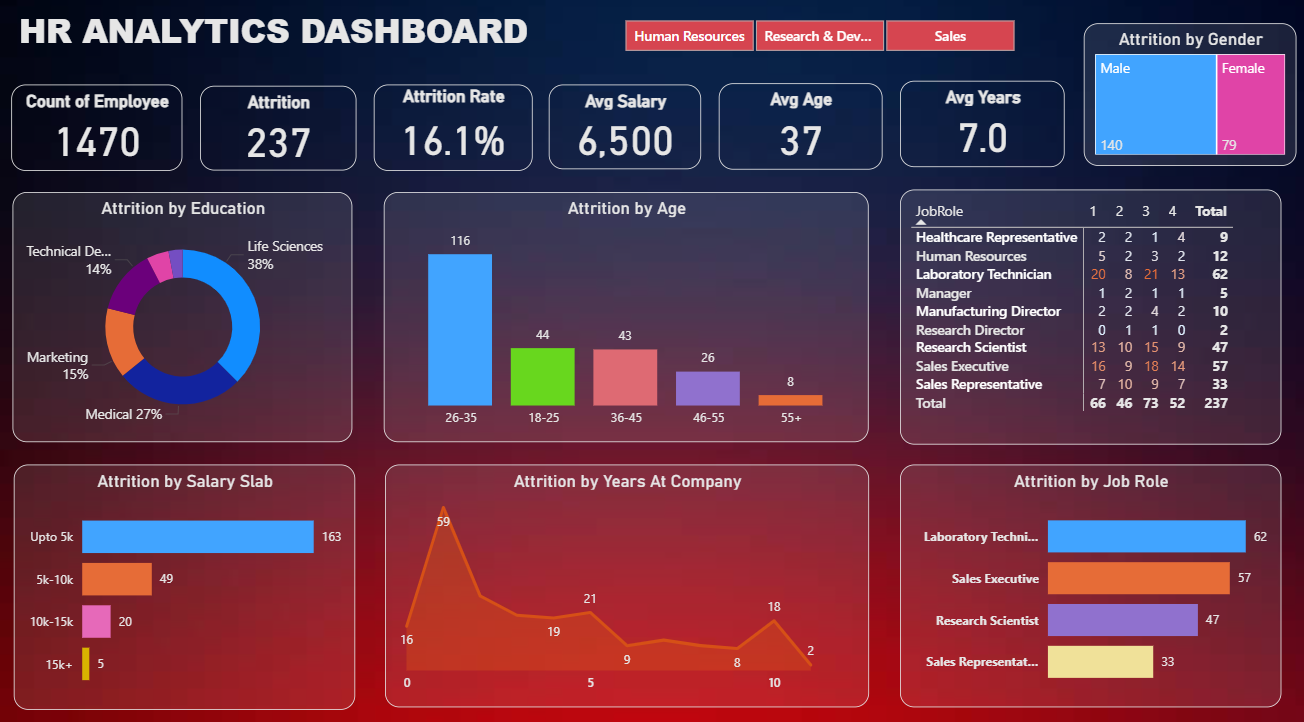

The dashboard page shown, as its layout file describes it:
{"tool":"powerbi","page":{"name":"Page 1","canvas":[1280,720],"ordinal":0},"visuals":[{"type":"card","title":"Count of Employee","fields":{"Values":["Count(HR_Analytics.EmpID)"]},"box":[11,90.8,168.1,84.7],"z":0},{"type":"card","title":"Attrition","fields":{"Values":["Sum(HR_Analytics.AttritionCount)"]},"box":[196.1,92,153.4,83.4],"z":1000},{"type":"card","title":"Attrition Rate","fields":{"Values":["HR_Analytics.Attritionrate"]},"box":[366.4,90.8,155.8,84.7],"z":2000},{"type":"card","title":"Avg Age ","fields":{"Values":["Avg(HR_Analytics.Age)"]},"box":[705.8,89.6,160.7,84.7],"z":3000},{"type":"card","title":"Avg Salary ","fields":{"Values":["Avg(HR_Analytics.MonthlyIncome)"]},"box":[539.1,90.8,149.7,83.4],"z":4000},{"type":"card","title":"Avg Years","fields":{"Values":["Avg(HR_Analytics.YearsAtCompany)"]},"box":[883.4,87.1,162,84.7],"z":5000},{"type":"donutChart","title":"Attrition by Education","fields":{"Category":["HR_Analytics.EducationField"],"Y":["Sum(HR_Analytics.AttritionCount)"]},"box":[12.3,196.3,333.7,245.4],"z":6000},{"type":"columnChart","title":"Attrition by Age ","fields":{"Category":["HR_Analytics.AgeGroup"],"Y":["Sum(HR_Analytics.AttritionCount)"]},"box":[376.7,196.3,476.1,245.4],"z":7000},{"type":"pivotTable","fields":{"Rows":["HR_Analytics.JobRole"],"Columns":["HR_Analytics.JobSatisfaction"],"Values":["Sum(HR_Analytics.AttritionCount)"]},"box":[883,193.9,374.2,250],"z":8000},{"type":"clusteredBarChart","title":"Attrition by Salary Slab","fields":{"Category":["HR_Analytics.SalarySlab"],"Y":["Sum(HR_Analytics.AttritionCount)"]},"box":[13.5,463.8,335,240.5],"z":9000},{"type":"clusteredBarChart","title":"Attrition by Job Role","fields":{"Category":["HR_Analytics.JobRole","HR_Analytics.SalarySlab"],"Y":["Sum(HR_Analytics.AttritionCount)"]},"box":[883.4,463.8,374.2,238],"z":10000},{"type":"areaChart","title":"Attrition by Years At Company","fields":{"Category":["HR_Analytics.YearsAtCompany"],"Y":["Sum(HR_Analytics.AttritionCount)"]},"box":[377.9,463.8,474.8,238],"z":11000},{"type":"treemap","title":"Attrition by Gender","fields":{"Group":["HR_Analytics.Gender"],"Values":["Sum(HR_Analytics.AttritionCount)"]},"box":[1063.8,30.7,208.6,139.9],"z":12000},{"type":"slicer","fields":{"Values":["HR_Analytics.Department"]},"box":[587.7,20.9,432,44.2],"z":13000},{"type":"textbox","box":[13.5,9.8,555.8,65],"z":14000}]}

Visuals, with their boxes in screenshot pixels (x1, y1, x2, y2), scaled from the page's 1280x720 canvas onto the 1304x722 screenshot:
"Count of Employee" card: bbox=[11, 91, 182, 176]
"Attrition" card: bbox=[200, 92, 356, 176]
"Attrition Rate" card: bbox=[373, 91, 532, 176]
"Avg Age " card: bbox=[719, 90, 883, 175]
"Avg Salary " card: bbox=[549, 91, 702, 175]
"Avg Years" card: bbox=[900, 87, 1065, 172]
"Attrition by Education" donutChart: bbox=[13, 197, 352, 443]
"Attrition by Age " columnChart: bbox=[384, 197, 869, 443]
pivotTable - HR_Analytics.JobRole x HR_Analytics.JobSatisfaction: bbox=[900, 194, 1281, 445]
"Attrition by Salary Slab" clusteredBarChart: bbox=[14, 465, 355, 706]
"Attrition by Job Role" clusteredBarChart: bbox=[900, 465, 1281, 704]
"Attrition by Years At Company" areaChart: bbox=[385, 465, 869, 704]
"Attrition by Gender" treemap: bbox=[1084, 31, 1296, 171]
slicer - HR_Analytics.Department: bbox=[599, 21, 1039, 65]
textbox: bbox=[14, 10, 580, 75]
